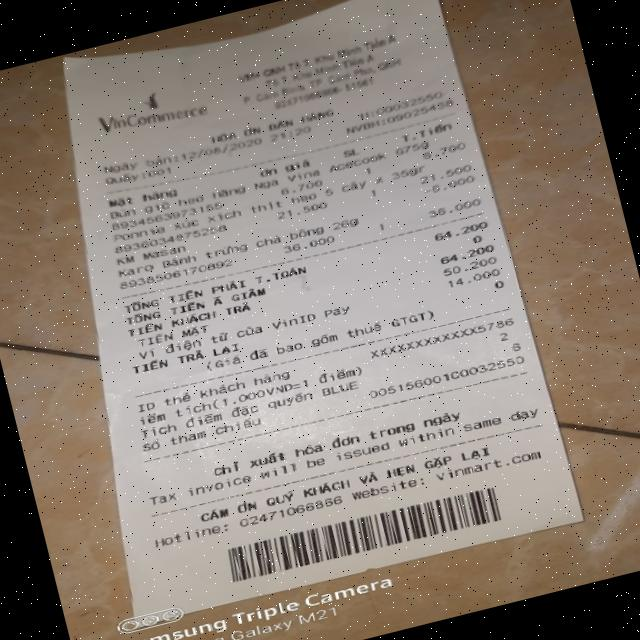Date: (176, 132, 265, 166)
Store_Name: (96, 88, 215, 144)
amount_number: (432, 218, 490, 241)
label_total: (119, 257, 310, 320)
